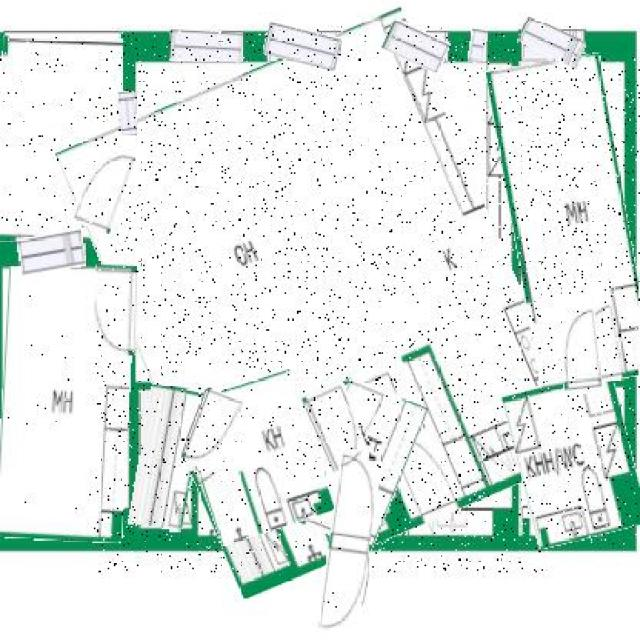door: (323, 449, 375, 637), (303, 384, 366, 470), (76, 147, 130, 230), (557, 294, 600, 394), (188, 389, 240, 471), (94, 264, 135, 356)
window: (264, 26, 342, 66), (19, 231, 86, 274), (385, 23, 449, 68), (519, 24, 586, 64), (170, 31, 244, 60), (120, 91, 135, 135), (469, 29, 488, 63)
zone: (95, 32, 551, 572), (500, 55, 640, 388), (0, 268, 131, 540), (0, 35, 120, 242), (188, 377, 324, 540), (511, 376, 638, 544), (306, 383, 416, 546), (134, 388, 200, 532)
